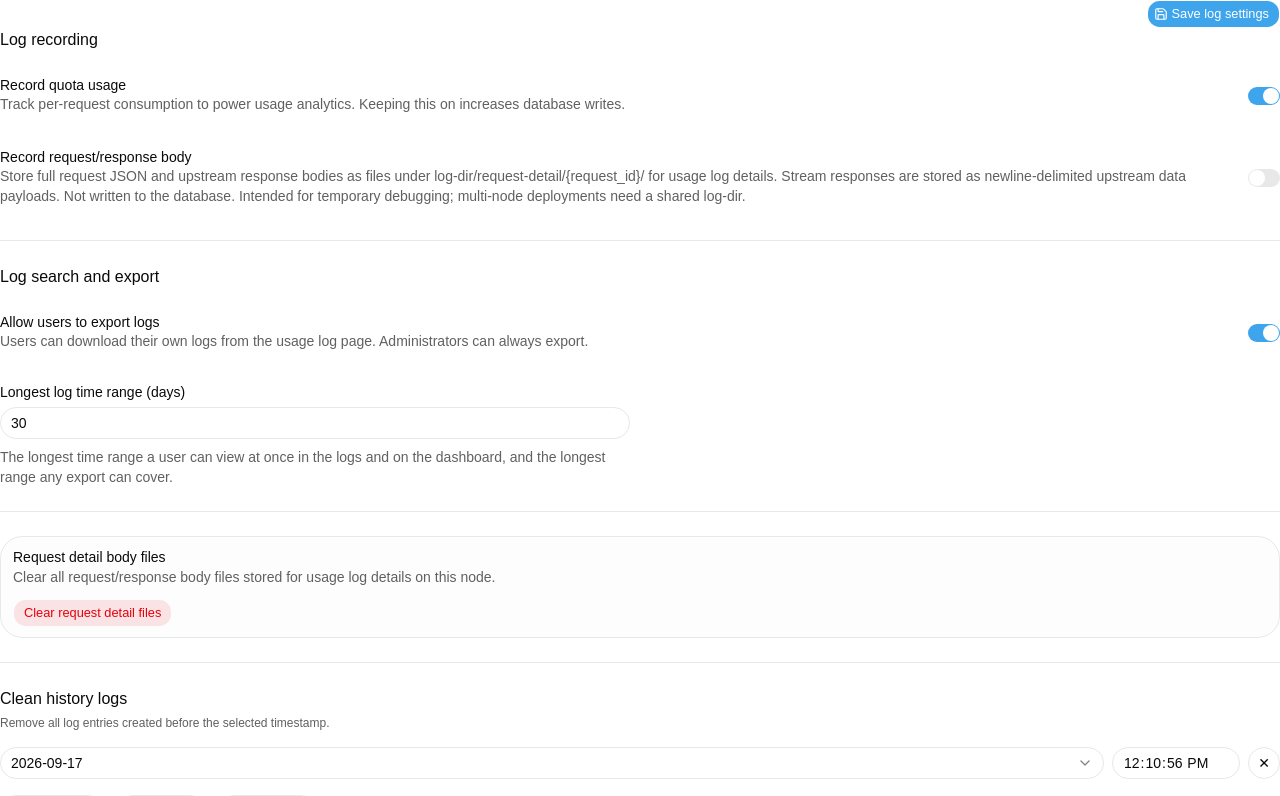
it: clearing request detail files requires confirmation and refreshes storage
What coordinates should you click on to do the following:
click the button "Clear request detail files"
I would click on:
 (93, 613)
Its box is 13,599 -> 172,627.
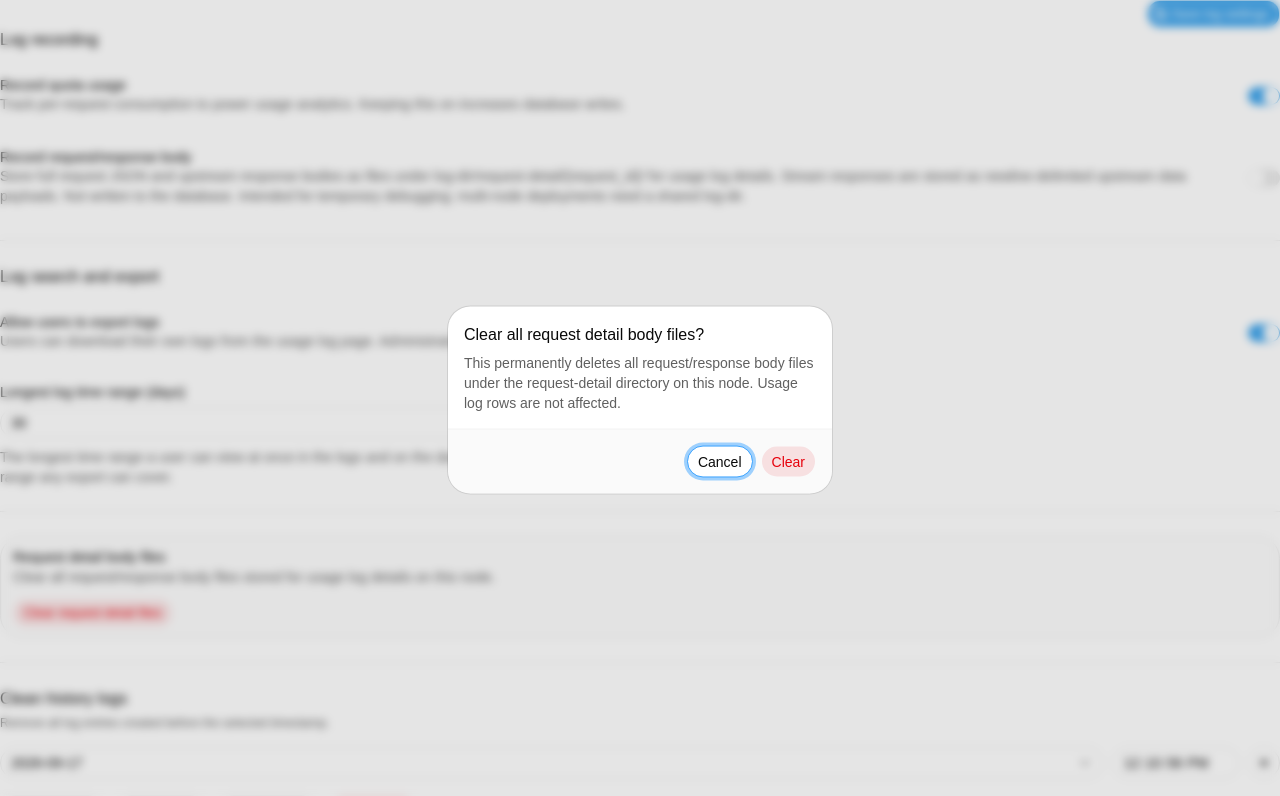
What coordinates should you click on to do the following:
click the button "Cancel"
I would click on:
 (720, 462)
Its box is 687,446 -> 752,478.
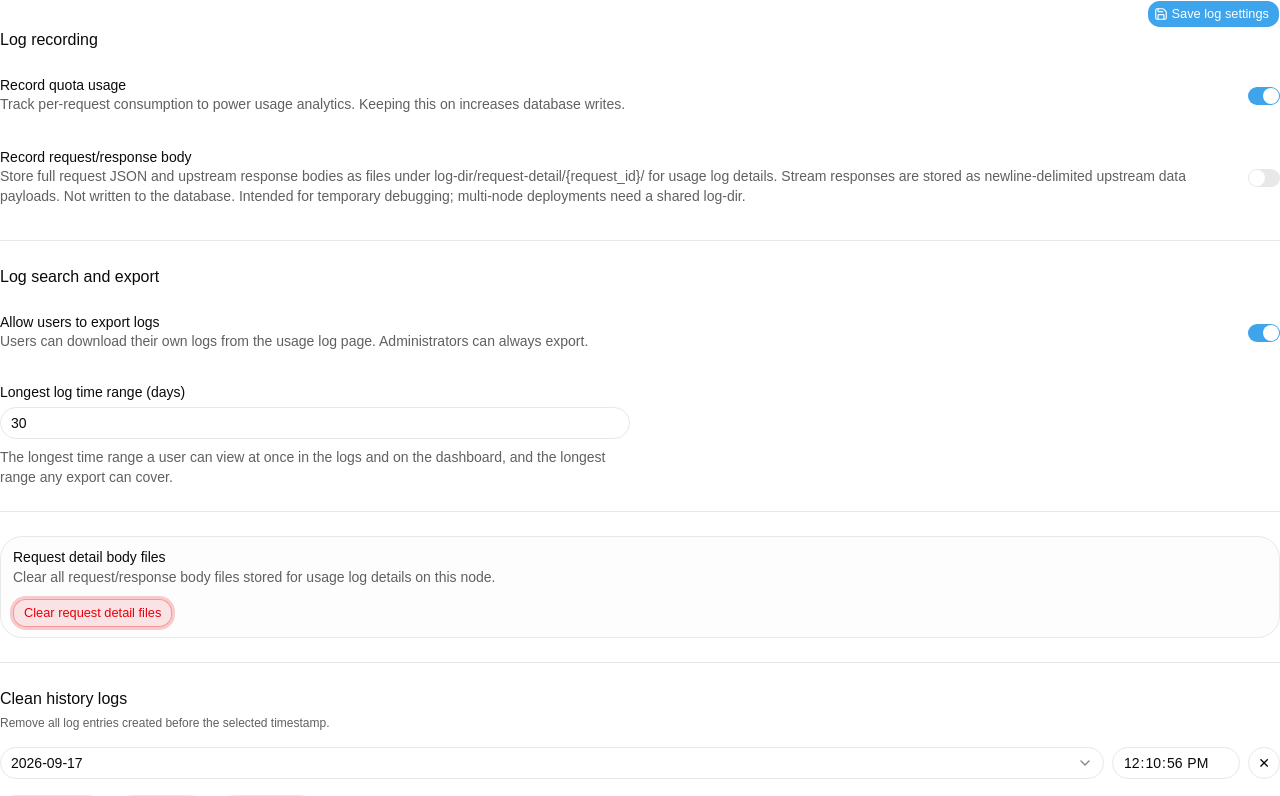
What coordinates should you click on to do the following:
click the button "Clear request detail files"
I would click on:
 (93, 613)
Its box is 13,599 -> 172,627.
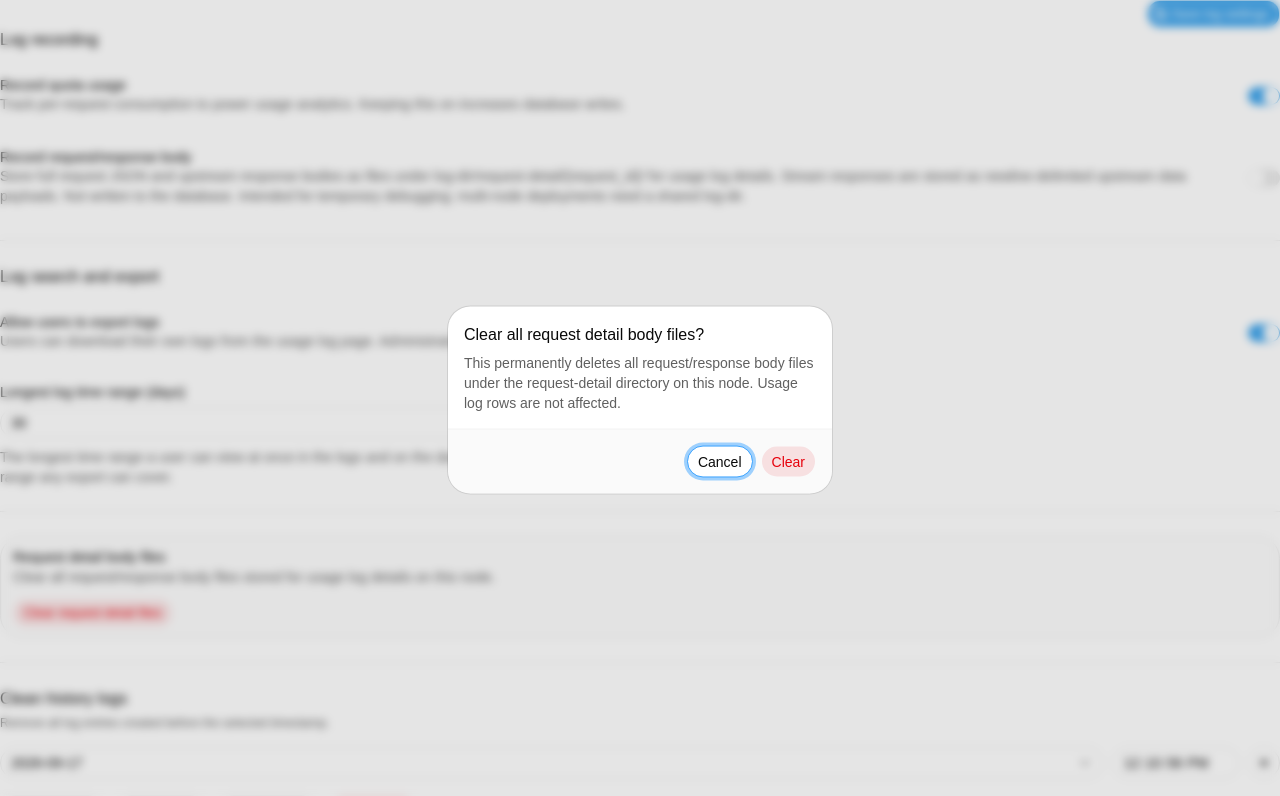
What coordinates should you click on to do the following:
click the button "Clear"
I would click on:
 (788, 462)
Its box is 760,446 -> 816,478.
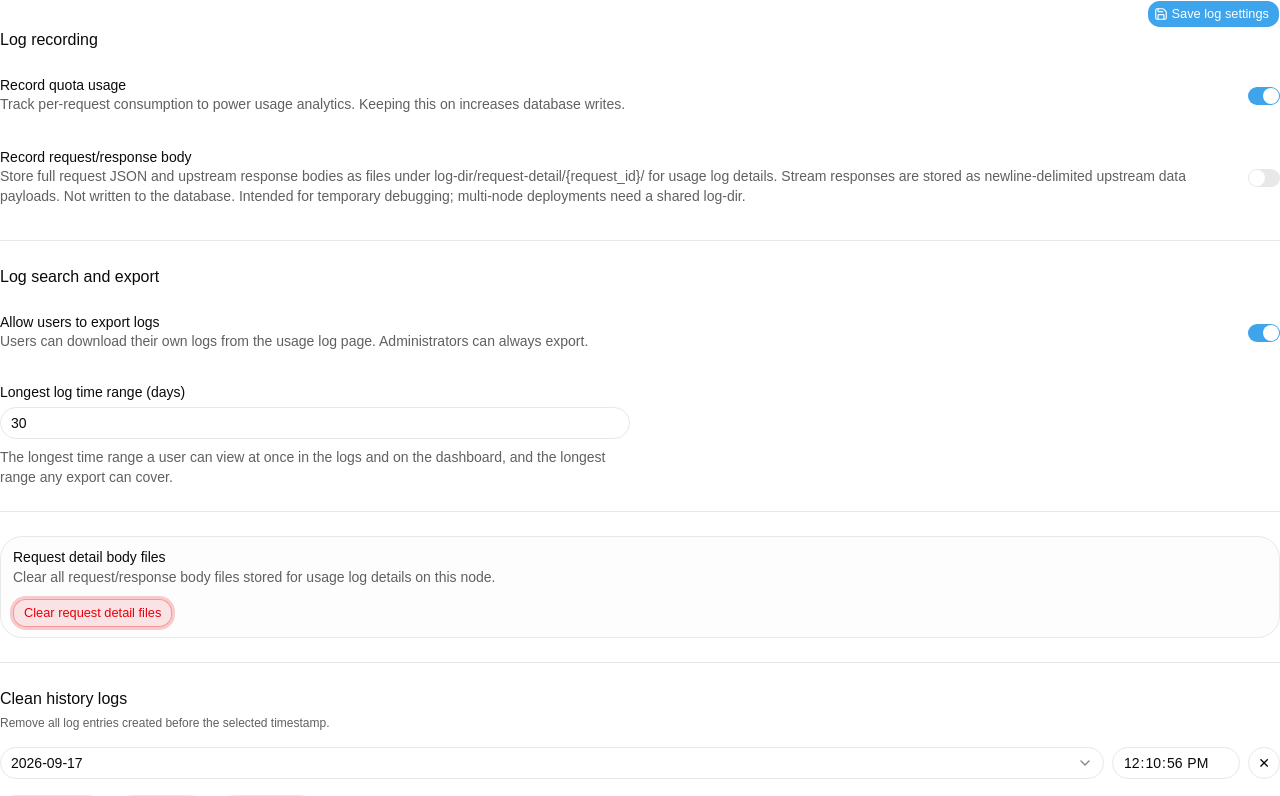
Expected: the dialog is gone
